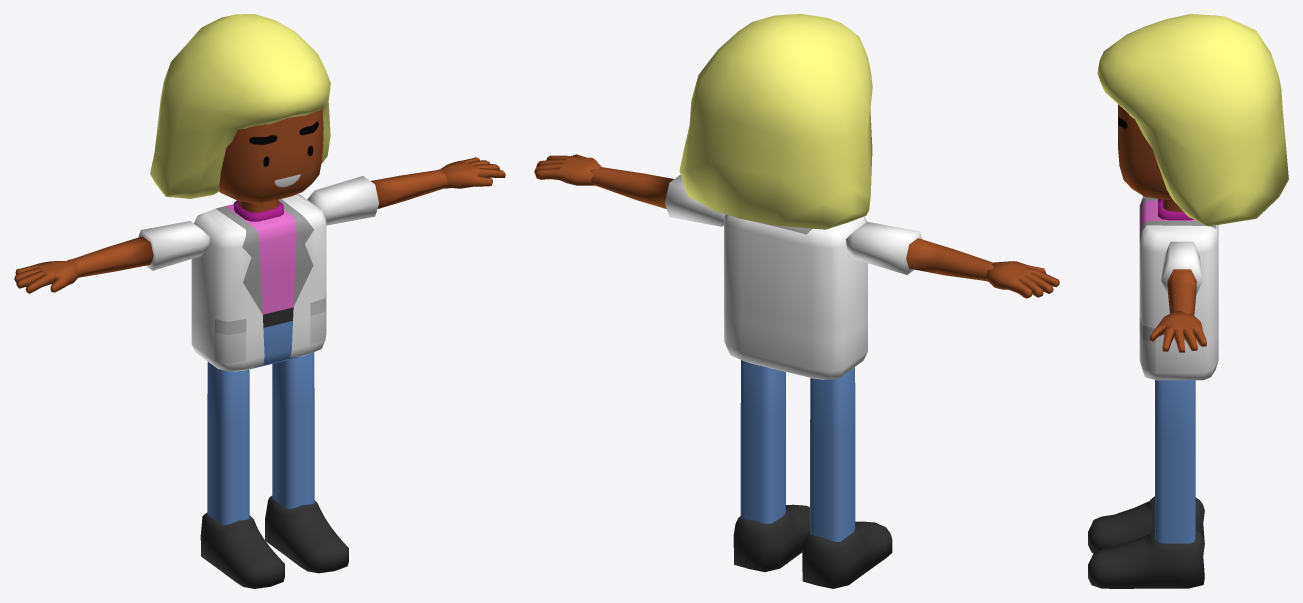
The model's file is NPC_Yellow02_BlondeHair05.gltf.
3 views of the same model, side by side, from view 1: azimuth 30°, elevation 25°; view 2: azimuth 150°, elevation 25°; view 3: azimuth 270°, elevation 25° (orthographic). The views are drawn at different scales.
Visible parts, largest first — view 1: NPC_Corpo_Yellow2_BlondeHair.005; view 2: NPC_Corpo_Yellow2_BlondeHair.005; view 3: NPC_Corpo_Yellow2_BlondeHair.005.
Boxes of the visible parts, x1,y1,x2,y2 form: NPC_Corpo_Yellow2_BlondeHair.005: (14, 14, 505, 588); NPC_Corpo_Yellow2_BlondeHair.005: (534, 14, 1059, 588); NPC_Corpo_Yellow2_BlondeHair.005: (1088, 14, 1288, 588).
Bounding box in the file's own units: 2.31 × 2.37 × 0.7967.
1 material, 1 textured.
